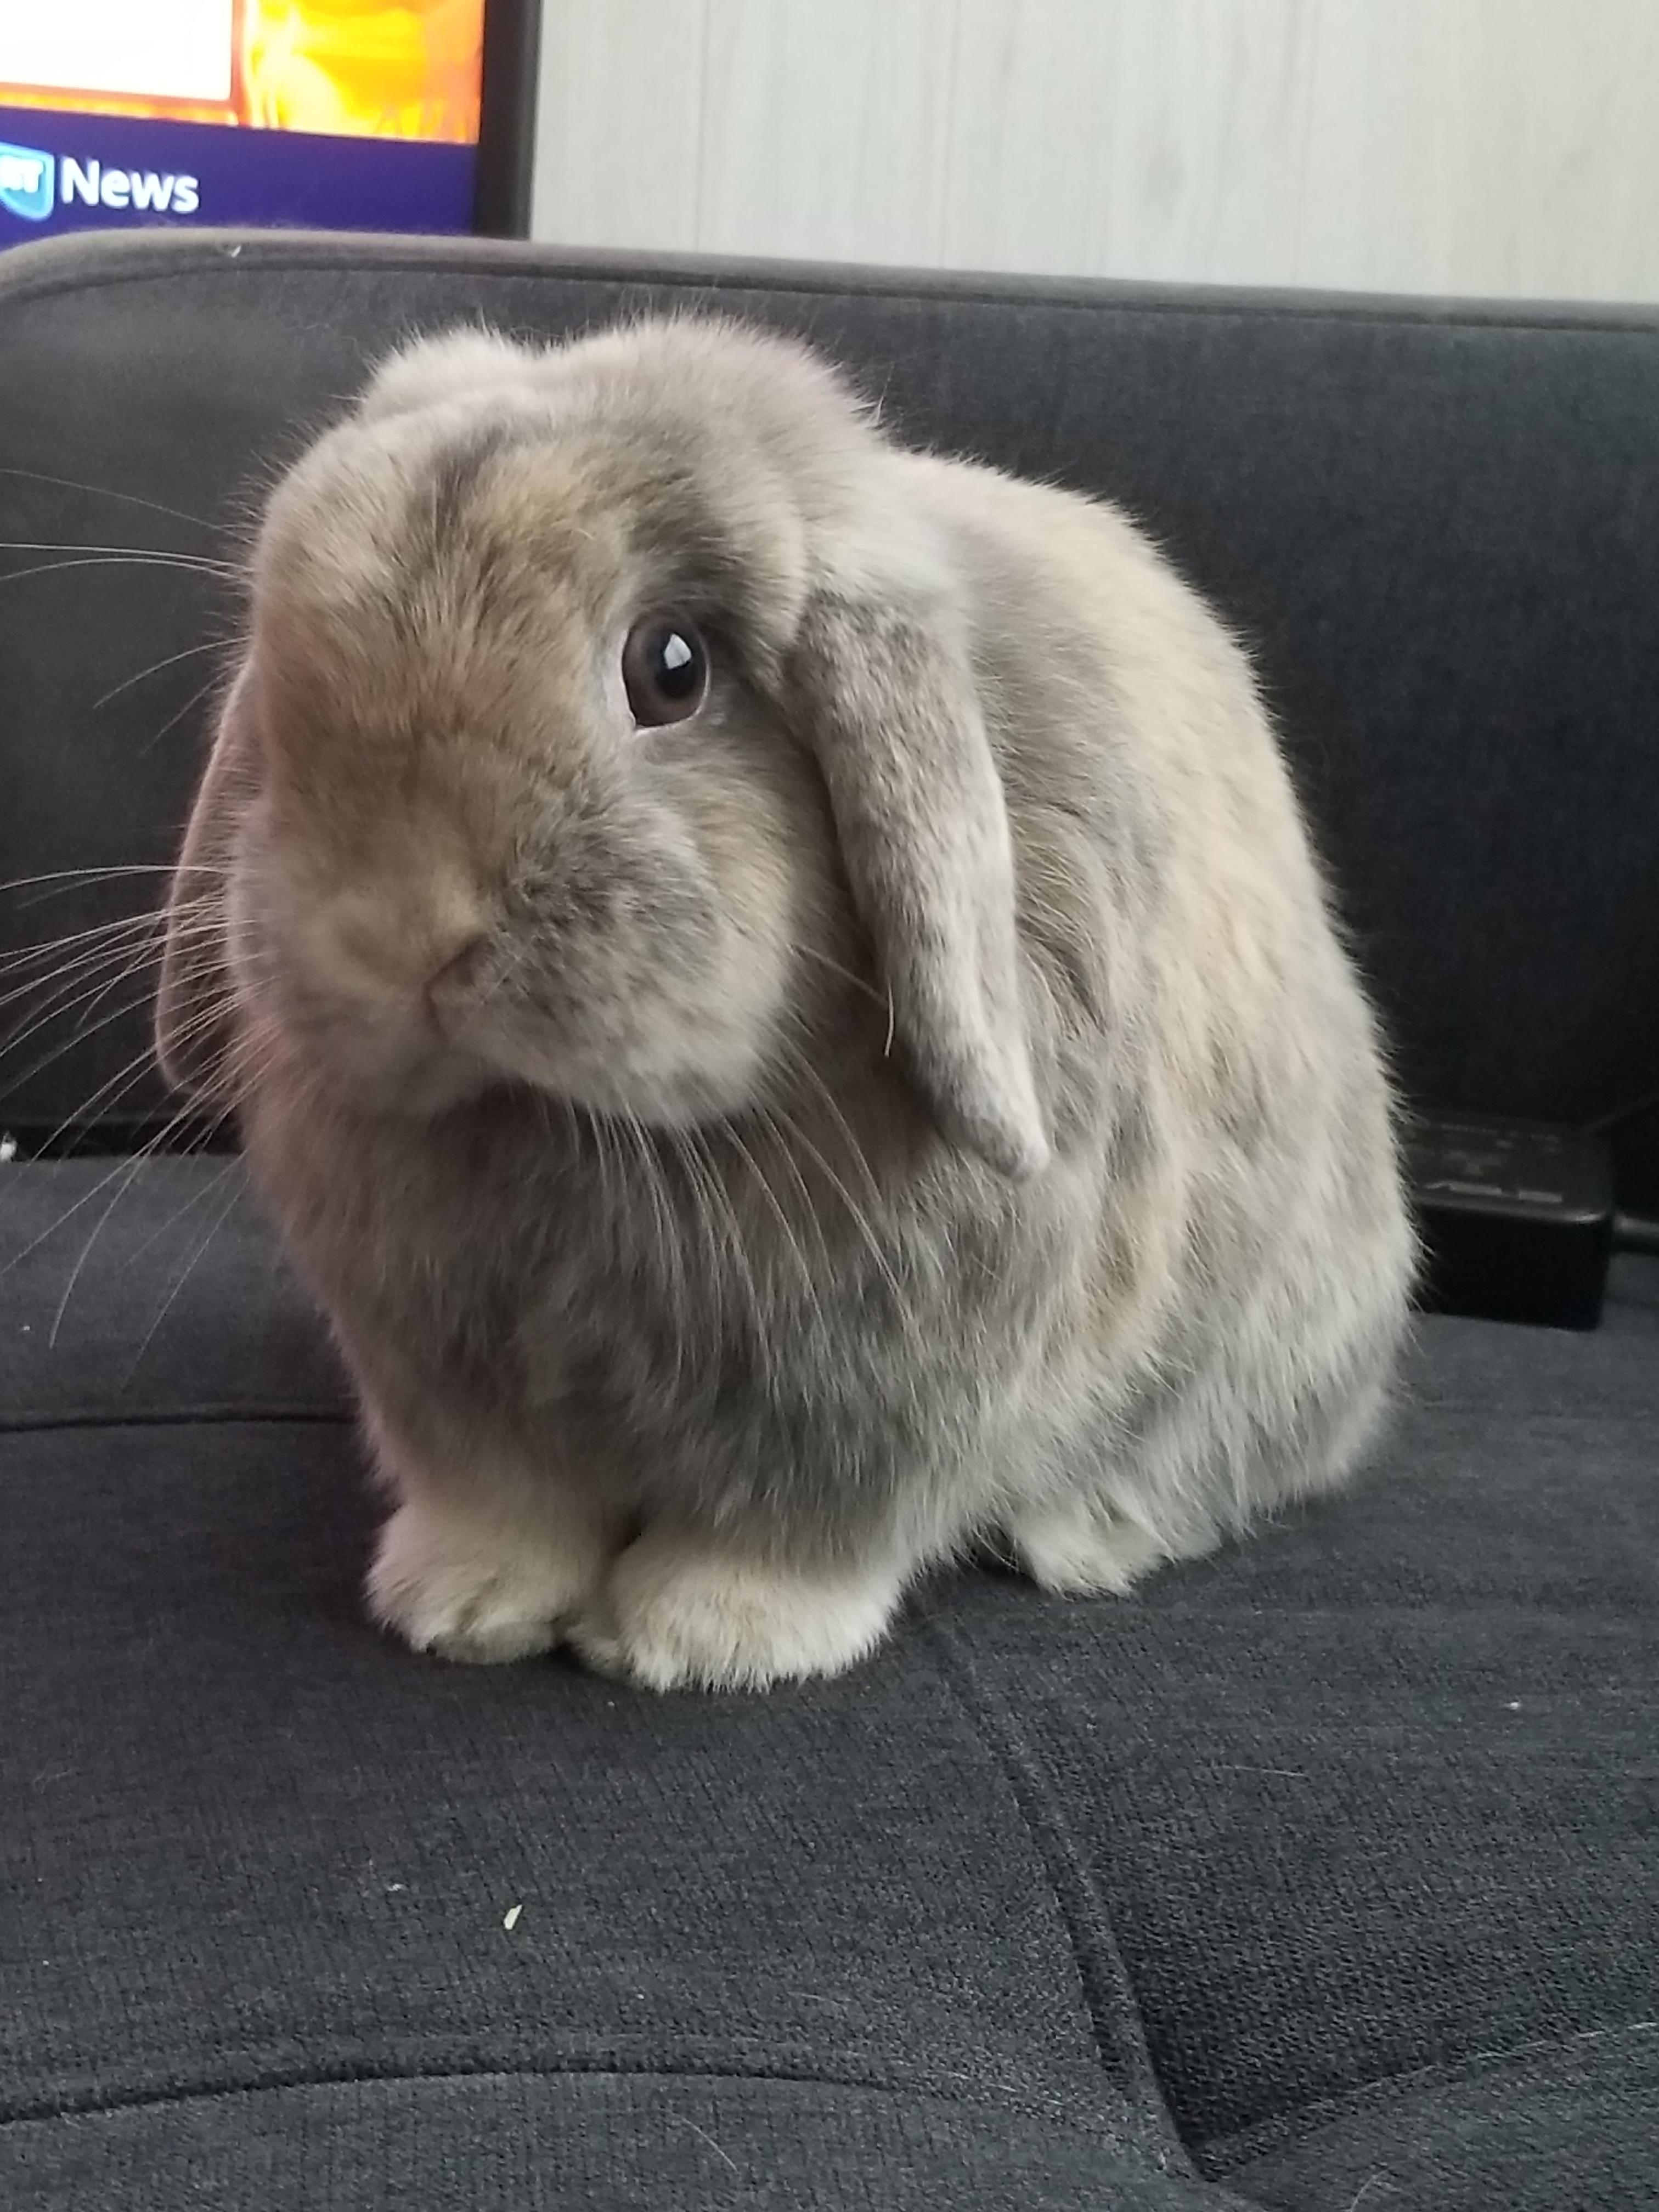bunny: (105, 294, 1436, 1712)
